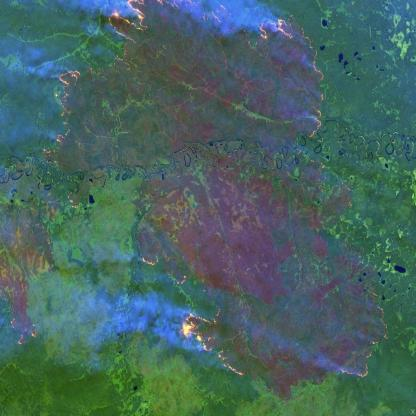fire: (41, 0, 328, 167), (179, 308, 246, 380), (6, 315, 42, 349)
